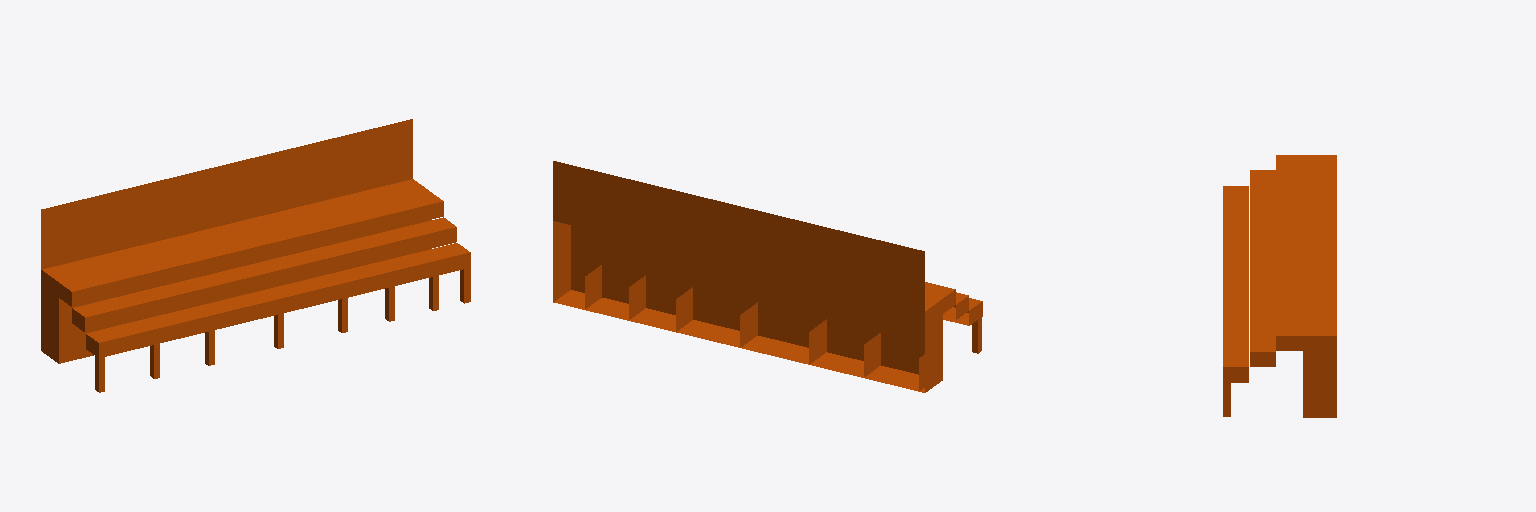
File: stair.obj
3 views of the same model, side by side, from view 1: azimuth 30°, elevation 25°; view 2: azimuth 150°, elevation 25°; view 3: azimuth 270°, elevation 25° (orthographic).
Visible parts, largest first — view 1: Cube.022; view 2: Cube.022; view 3: Cube.022.
Part boxes in pixels (x1,y1,x2,y2): Cube.022: (41,119,470,392); Cube.022: (553,161,982,392); Cube.022: (1223,155,1336,417).
Bounding box in the file's own units: 48.82 × 17.79 × 13.02.